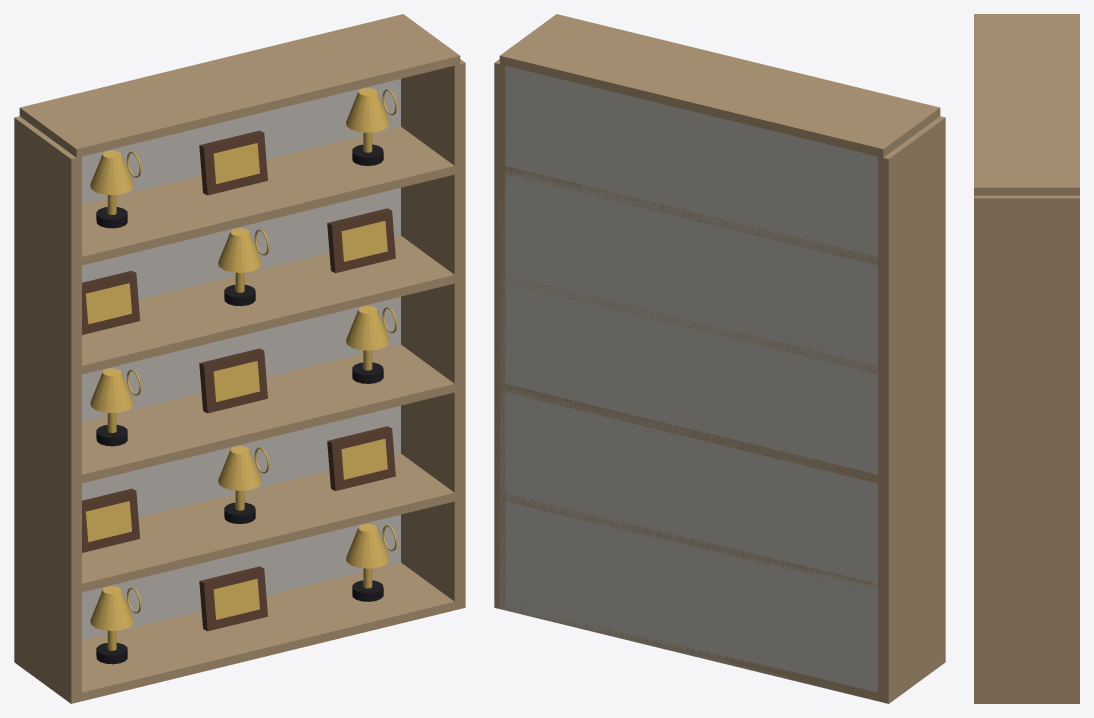
Rendered from estante-trofeus.glb.
The picture shows the model from 3 angles, left to right: view 1: azimuth 30°, elevation 25°; view 2: azimuth 150°, elevation 25°; view 3: azimuth 270°, elevation 25°; orthographic projection. The views are drawn at different scales.
Parts seen in each view (by area): view 1: estante-trofeus_malha; view 2: estante-trofeus_malha; view 3: estante-trofeus_malha.
Part boxes in pixels (x1,y1,x2,y2): estante-trofeus_malha: [14, 14, 465, 703]; estante-trofeus_malha: [494, 14, 945, 703]; estante-trofeus_malha: [974, 14, 1079, 703].
Bounding box in the file's own units: 1.44 × 1.93 × 0.36.
